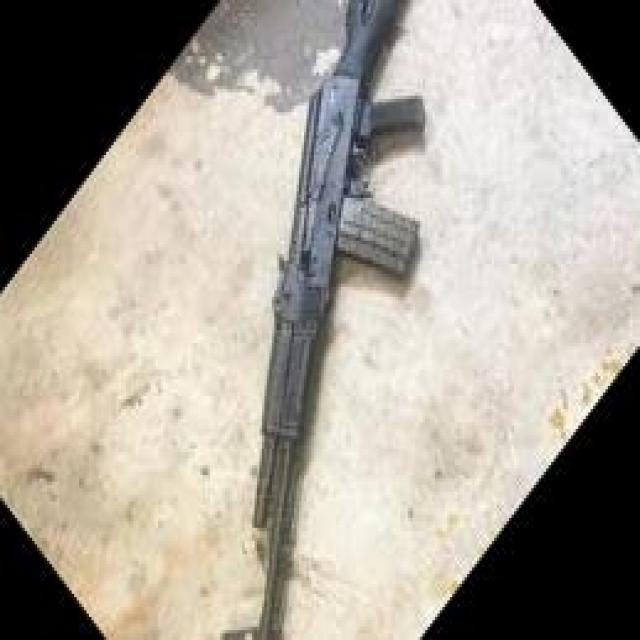weapon: (251, 0, 429, 640)
